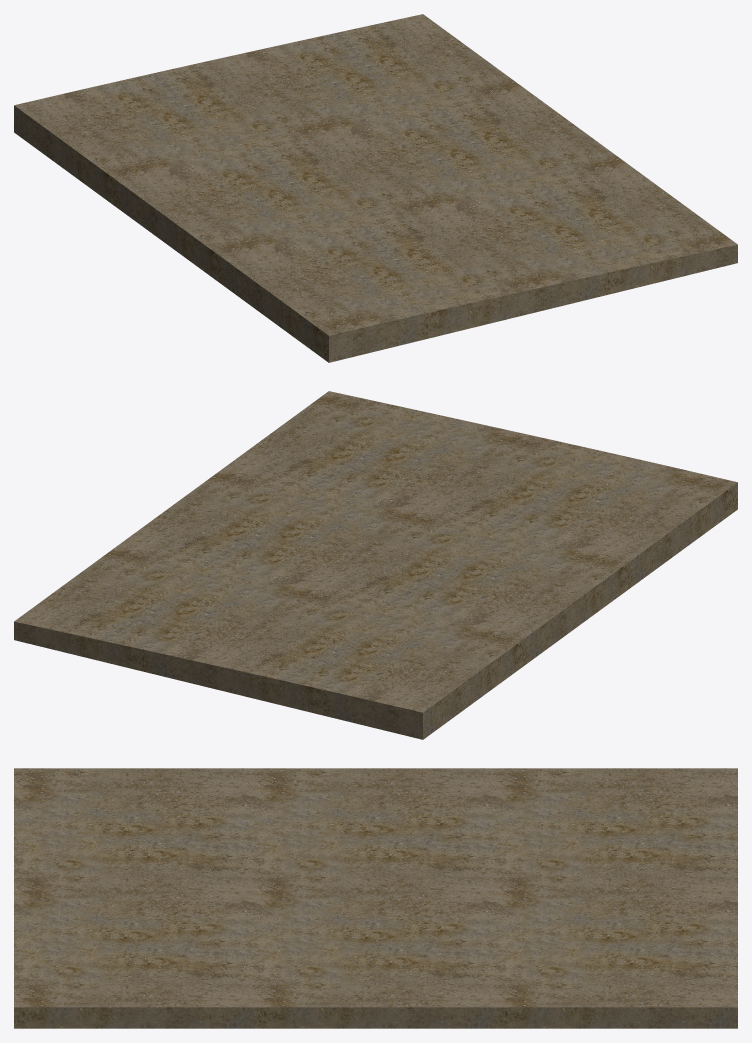
File: shoulder_render.glb
3 renders of one model, top to bottom at view 1: azimuth 30°, elevation 25°; view 2: azimuth 150°, elevation 25°; view 3: azimuth 270°, elevation 25°, orthographic. The views are drawn at different scales.
Parts seen in each view (by area): view 1: shoulder_SOIL_RENDER; view 2: shoulder_SOIL_RENDER; view 3: shoulder_SOIL_RENDER.
Part boxes in pixels (x1,y1,x2,y2): shoulder_SOIL_RENDER: (14, 14, 737, 362); shoulder_SOIL_RENDER: (14, 391, 737, 739); shoulder_SOIL_RENDER: (14, 768, 737, 1028).
Size of the model in its own units: 6 by 0.38 by 8.
Materials: 1 (1 with a texture image).
